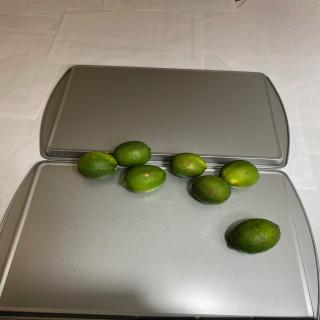Lemon: (229, 218, 281, 254), (122, 164, 166, 193), (192, 175, 232, 205), (219, 159, 259, 189), (77, 151, 117, 180), (113, 140, 151, 168), (169, 152, 207, 178)
